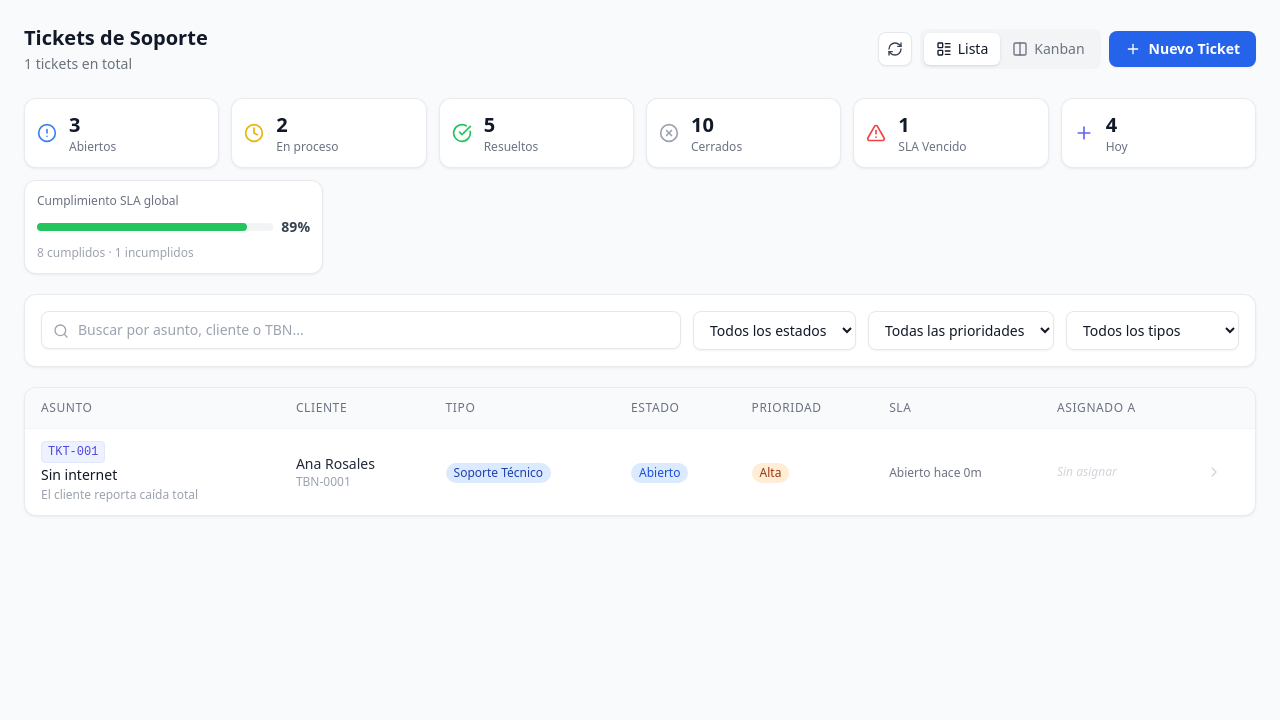
TicketsPage — TC-FE-TKT-01 a TC-FE-TKT-07 (red de seguridad refactor #6) › TC-FE-TKT-04 — cambiar a Kanban carga y muestra columnas
The image size is (1280, 720).
Expected: the text "Sin internet" is shown, [41,465,117,484]
Click the button "Kanban" at (1048, 49), box [1000,33,1097,65]
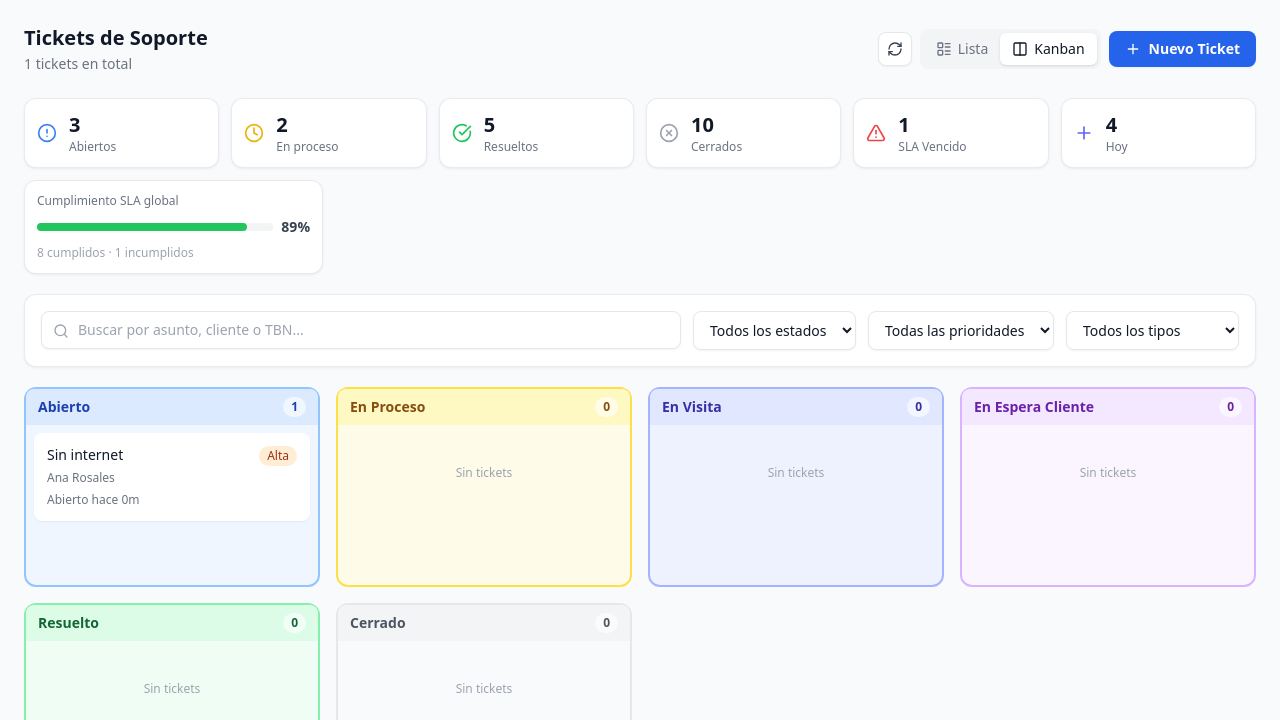
Expected: the 1st text "Sin tickets" is shown, [456,464,512,481]
